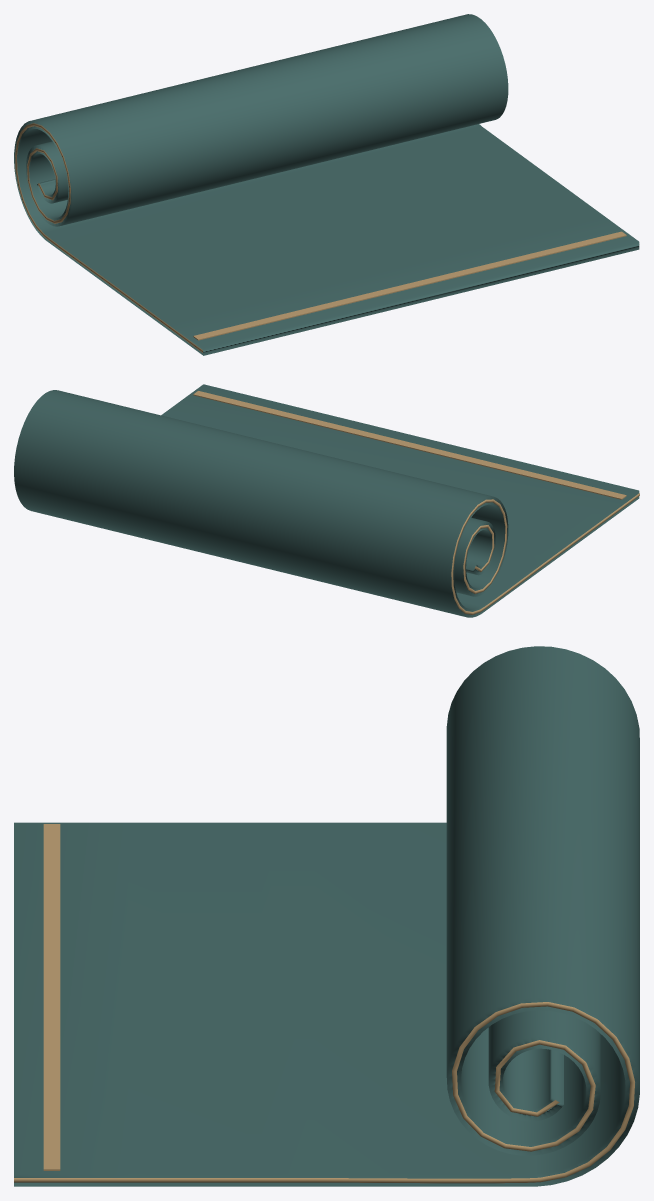
The picture shows the model from 3 angles, top to bottom: view 1: azimuth 30°, elevation 25°; view 2: azimuth 150°, elevation 25°; view 3: azimuth 270°, elevation 25°; orthographic projection. The views are drawn at different scales.
Visible parts, largest first — view 1: mat-continuous-scroll, mat-inset-border, mat-edge-binding; view 2: mat-continuous-scroll, mat-inset-border, mat-edge-binding; view 3: mat-continuous-scroll, mat-edge-binding, mat-inset-border.
Boxes of the visible parts, x1,y1,x2,y2 form: mat-continuous-scroll: (14, 14, 639, 355); mat-inset-border: (193, 231, 626, 340); mat-edge-binding: (15, 123, 203, 352); mat-continuous-scroll: (14, 384, 639, 617); mat-inset-border: (193, 391, 626, 499); mat-edge-binding: (451, 493, 639, 614); mat-continuous-scroll: (14, 646, 639, 1186); mat-edge-binding: (14, 1002, 634, 1183); mat-inset-border: (43, 824, 60, 1170).
Size of the model in its own units: 0.3519 by 0.0882 by 0.2643.
